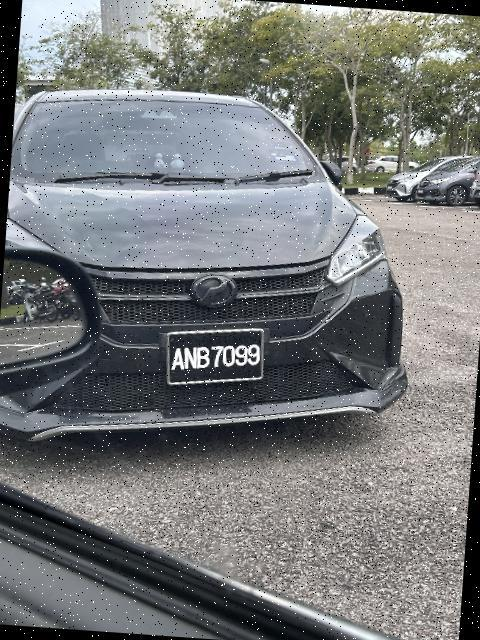ANB7099: (163, 322, 272, 395)
License_Plate: (163, 322, 272, 395)
car: (1, 79, 433, 473)
